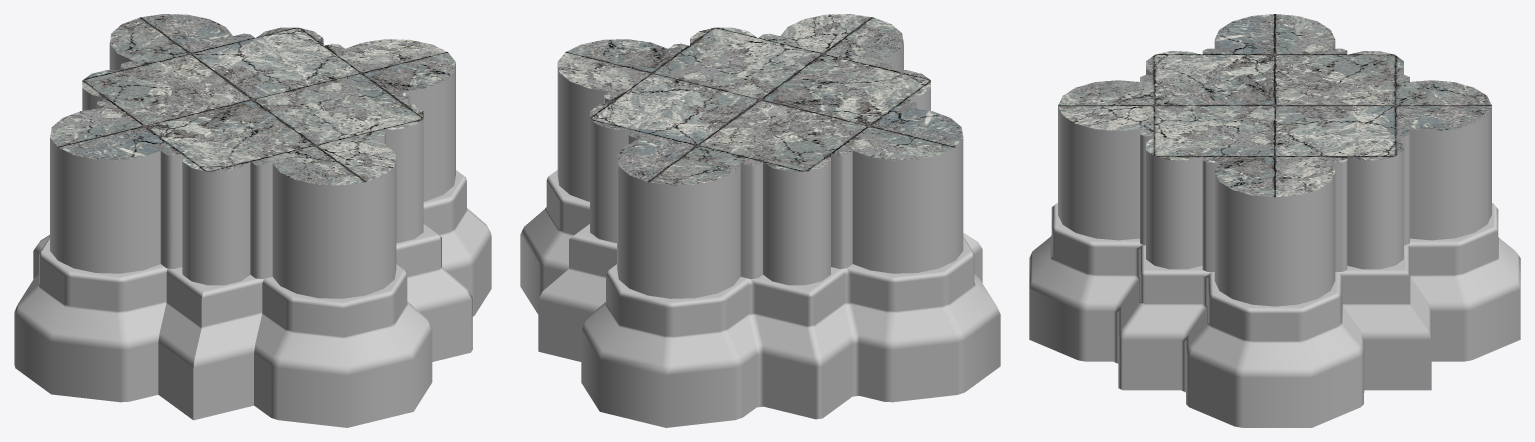
File: Säulenfuß_2m.gltf
3 views of the same model, side by side, from view 1: azimuth 30°, elevation 25°; view 2: azimuth 150°, elevation 25°; view 3: azimuth 270°, elevation 25° (orthographic). The views are drawn at different scales.
Parts seen in each view (by area): view 1: Säulenfuß_2m; view 2: Säulenfuß_2m; view 3: Säulenfuß_2m.
Boxes of the visible parts, x1,y1,x2,y2 form: Säulenfuß_2m: [14, 14, 491, 427]; Säulenfuß_2m: [520, 14, 1000, 427]; Säulenfuß_2m: [1029, 14, 1520, 427].
Size of the model in its own units: 2.04 by 1 by 2.04.
